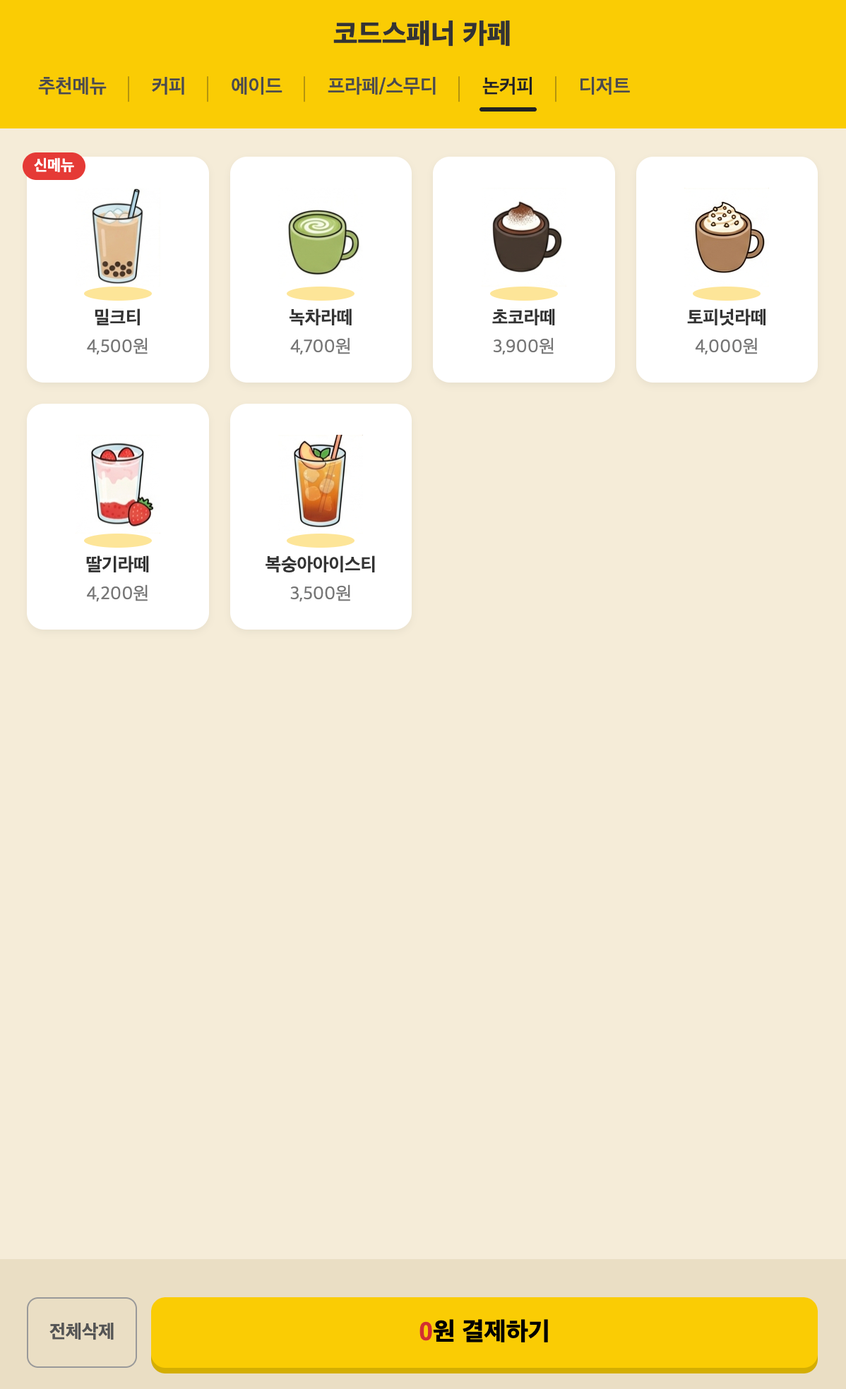action_button: (152, 1297, 818, 1374), (27, 1297, 137, 1368)
category_tab: (327, 75, 437, 96), (39, 75, 108, 96), (230, 75, 283, 95), (483, 75, 533, 96), (579, 75, 631, 95), (152, 76, 186, 96)
menu_back: (27, 403, 210, 630), (636, 155, 819, 382), (230, 401, 413, 628), (230, 155, 413, 382), (26, 155, 209, 382), (433, 155, 615, 382)
menu_name: (264, 556, 376, 574), (684, 308, 769, 326), (287, 307, 355, 328), (488, 307, 558, 326), (84, 555, 150, 574), (92, 308, 143, 326)
menu_price: (86, 337, 150, 355), (694, 337, 758, 355), (289, 584, 353, 602), (86, 584, 150, 602), (492, 336, 555, 354), (289, 337, 352, 355)
